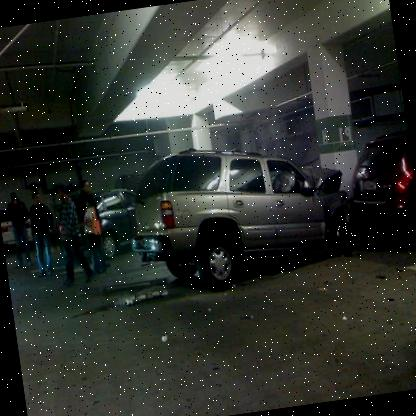car: (118, 123, 361, 300)
person: (46, 183, 89, 288), (70, 174, 112, 274), (23, 190, 58, 280), (2, 186, 34, 270)
